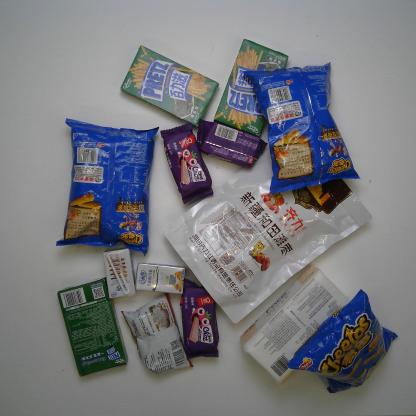Dessert: (119, 45, 221, 127), (211, 38, 290, 138), (57, 274, 129, 378), (160, 117, 214, 206), (191, 115, 268, 168), (177, 273, 219, 364)
Dried Food: (161, 130, 372, 324)
Milk: (102, 244, 138, 301), (134, 261, 190, 296)
Puffed Food: (243, 61, 361, 195), (55, 118, 165, 256), (286, 290, 398, 394)
Seasoner: (116, 295, 194, 374)
Tissue: (238, 263, 355, 387)
